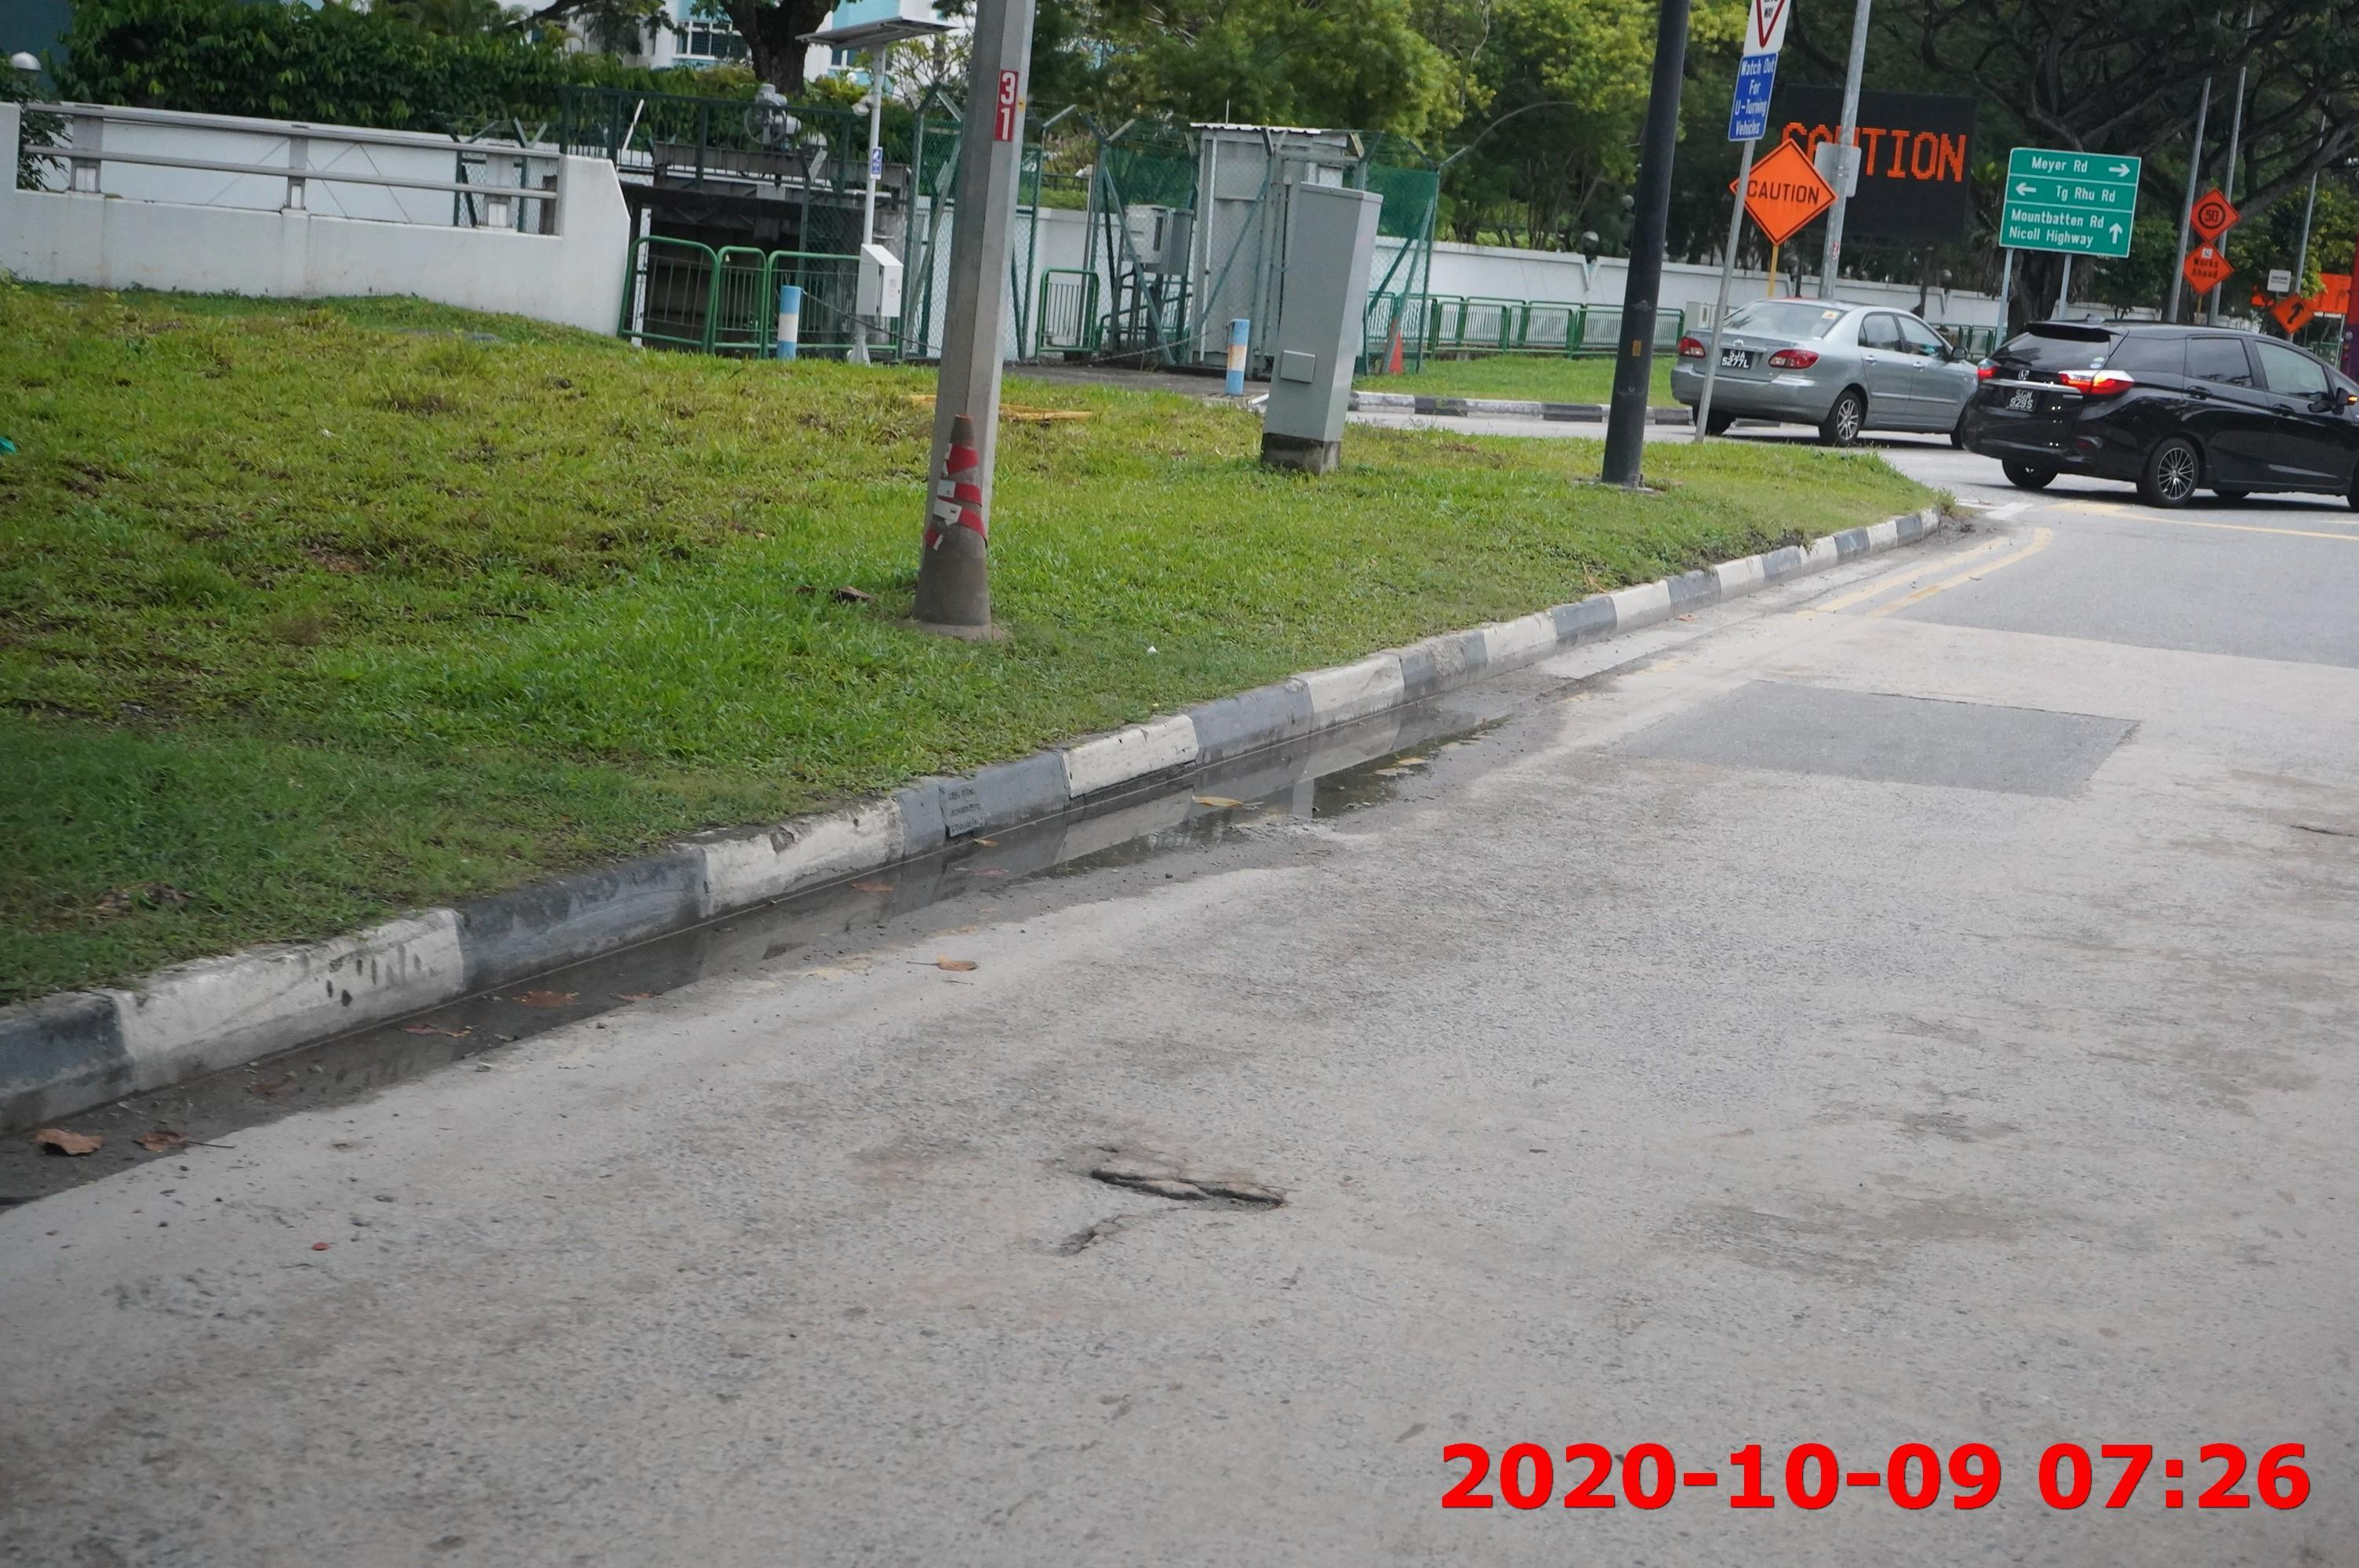localise surface defect: (1073, 1146, 1293, 1213)
